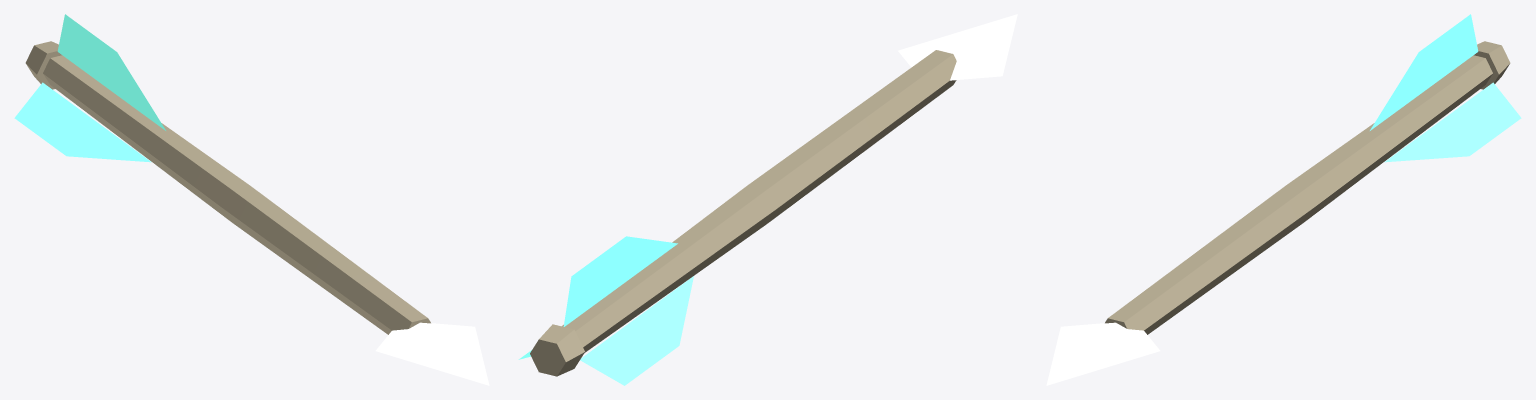
Rendered from bone_arrow.glb.
3 views of the same model, side by side, from view 1: azimuth 30°, elevation 25°; view 2: azimuth 150°, elevation 25°; view 3: azimuth 330°, elevation 25° (orthographic). The views are drawn at different scales.
Parts seen in each view (by area): view 1: bone_arrow; view 2: bone_arrow; view 3: bone_arrow.
Boxes of the visible parts, box(x1,y1,x2,y2) form: bone_arrow: box(14, 14, 489, 385); bone_arrow: box(518, 14, 1017, 385); bone_arrow: box(1046, 14, 1521, 385).
Size of the model in its own units: 0.1178 by 0.102 by 0.9.
